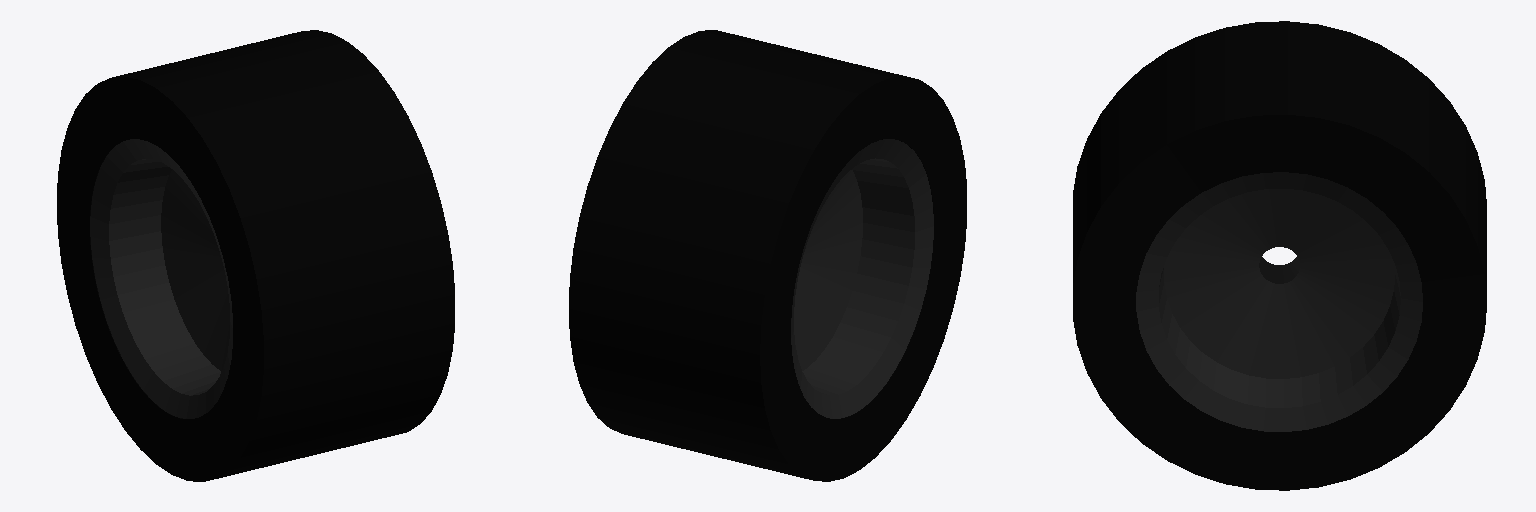
File: wheel.obj
3 renders of one model, left to right at view 1: azimuth 30°, elevation 25°; view 2: azimuth 150°, elevation 25°; view 3: azimuth 270°, elevation 25°, orthographic.
Visible parts, largest first — view 1: lambo_Bravo_body_Plane.000; view 2: lambo_Bravo_body_Plane.000; view 3: lambo_Bravo_body_Plane.000.
Boxes of the visible parts, x1=… form: lambo_Bravo_body_Plane.000: x1=57, y1=30, x2=454, y2=481; lambo_Bravo_body_Plane.000: x1=569, y1=30, x2=966, y2=481; lambo_Bravo_body_Plane.000: x1=1073, y1=21, x2=1486, y2=490.
Bounding box in the file's own units: 0.3076 × 0.5776 × 0.5771.